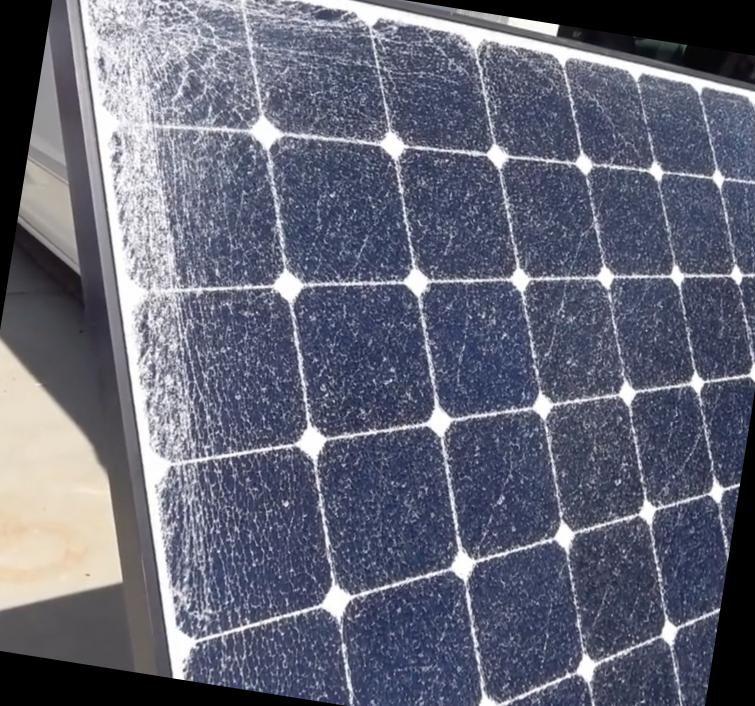Crack: (46, 189, 270, 625), (51, 0, 310, 208), (354, 258, 355, 259)
